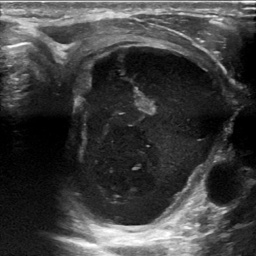mass: (71, 45, 229, 224)
